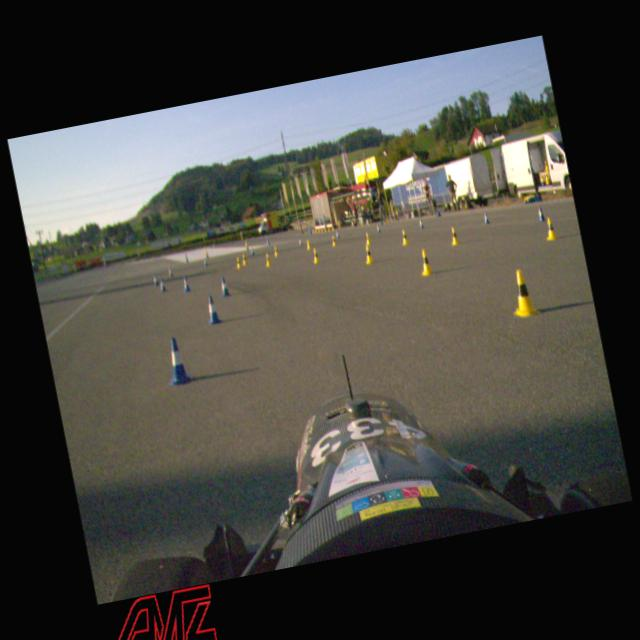blue_cone: (160, 336, 192, 388), (204, 296, 222, 326), (218, 275, 230, 297), (181, 275, 191, 293), (536, 205, 546, 222), (158, 278, 166, 292), (482, 211, 490, 225), (152, 273, 158, 286), (418, 218, 424, 229), (376, 223, 381, 233), (335, 230, 340, 238), (298, 238, 302, 245)
yellow_cone: (506, 268, 540, 320), (416, 248, 434, 277), (542, 216, 559, 242), (448, 226, 461, 247), (363, 244, 375, 264), (400, 230, 410, 247), (310, 247, 320, 264), (264, 253, 272, 267), (235, 256, 242, 270), (365, 232, 372, 245), (241, 254, 248, 266), (272, 246, 280, 256), (305, 240, 312, 250), (331, 236, 336, 247)
